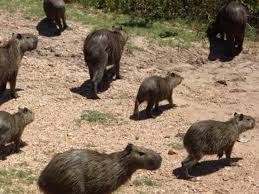capivara: (37, 143, 163, 194), (182, 112, 259, 180), (84, 25, 129, 101), (1, 31, 38, 102), (134, 72, 184, 120), (206, 1, 247, 51), (1, 105, 35, 159), (39, 1, 71, 32)
